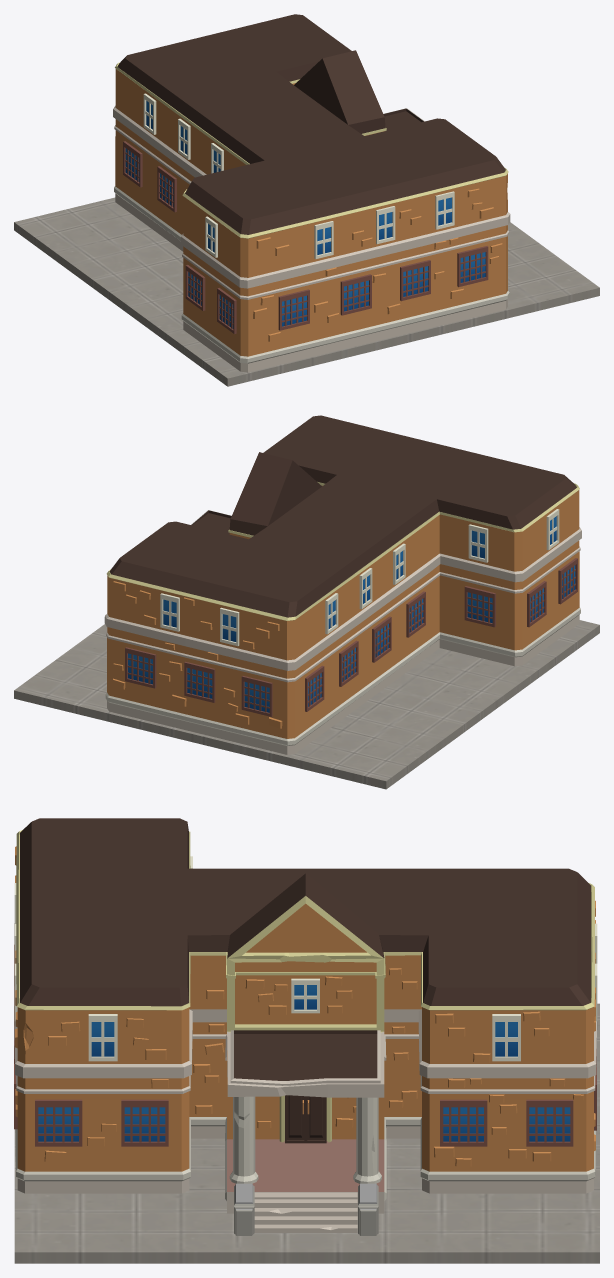
The model's file is School_01.fbx.
The picture shows the model from 3 angles, top to bottom: view 1: azimuth 30°, elevation 25°; view 2: azimuth 150°, elevation 25°; view 3: azimuth 270°, elevation 25°; orthographic projection. The views are drawn at different scales.
Parts seen in each view (by area): view 1: School_01; view 2: School_01; view 3: School_01.
Part boxes in pixels (x1,y1,x2,y2): School_01: [14, 14, 599, 386]; School_01: [14, 415, 599, 789]; School_01: [14, 818, 599, 1263].
Bounding box in the file's own units: 2412 × 1248 × 2401.
